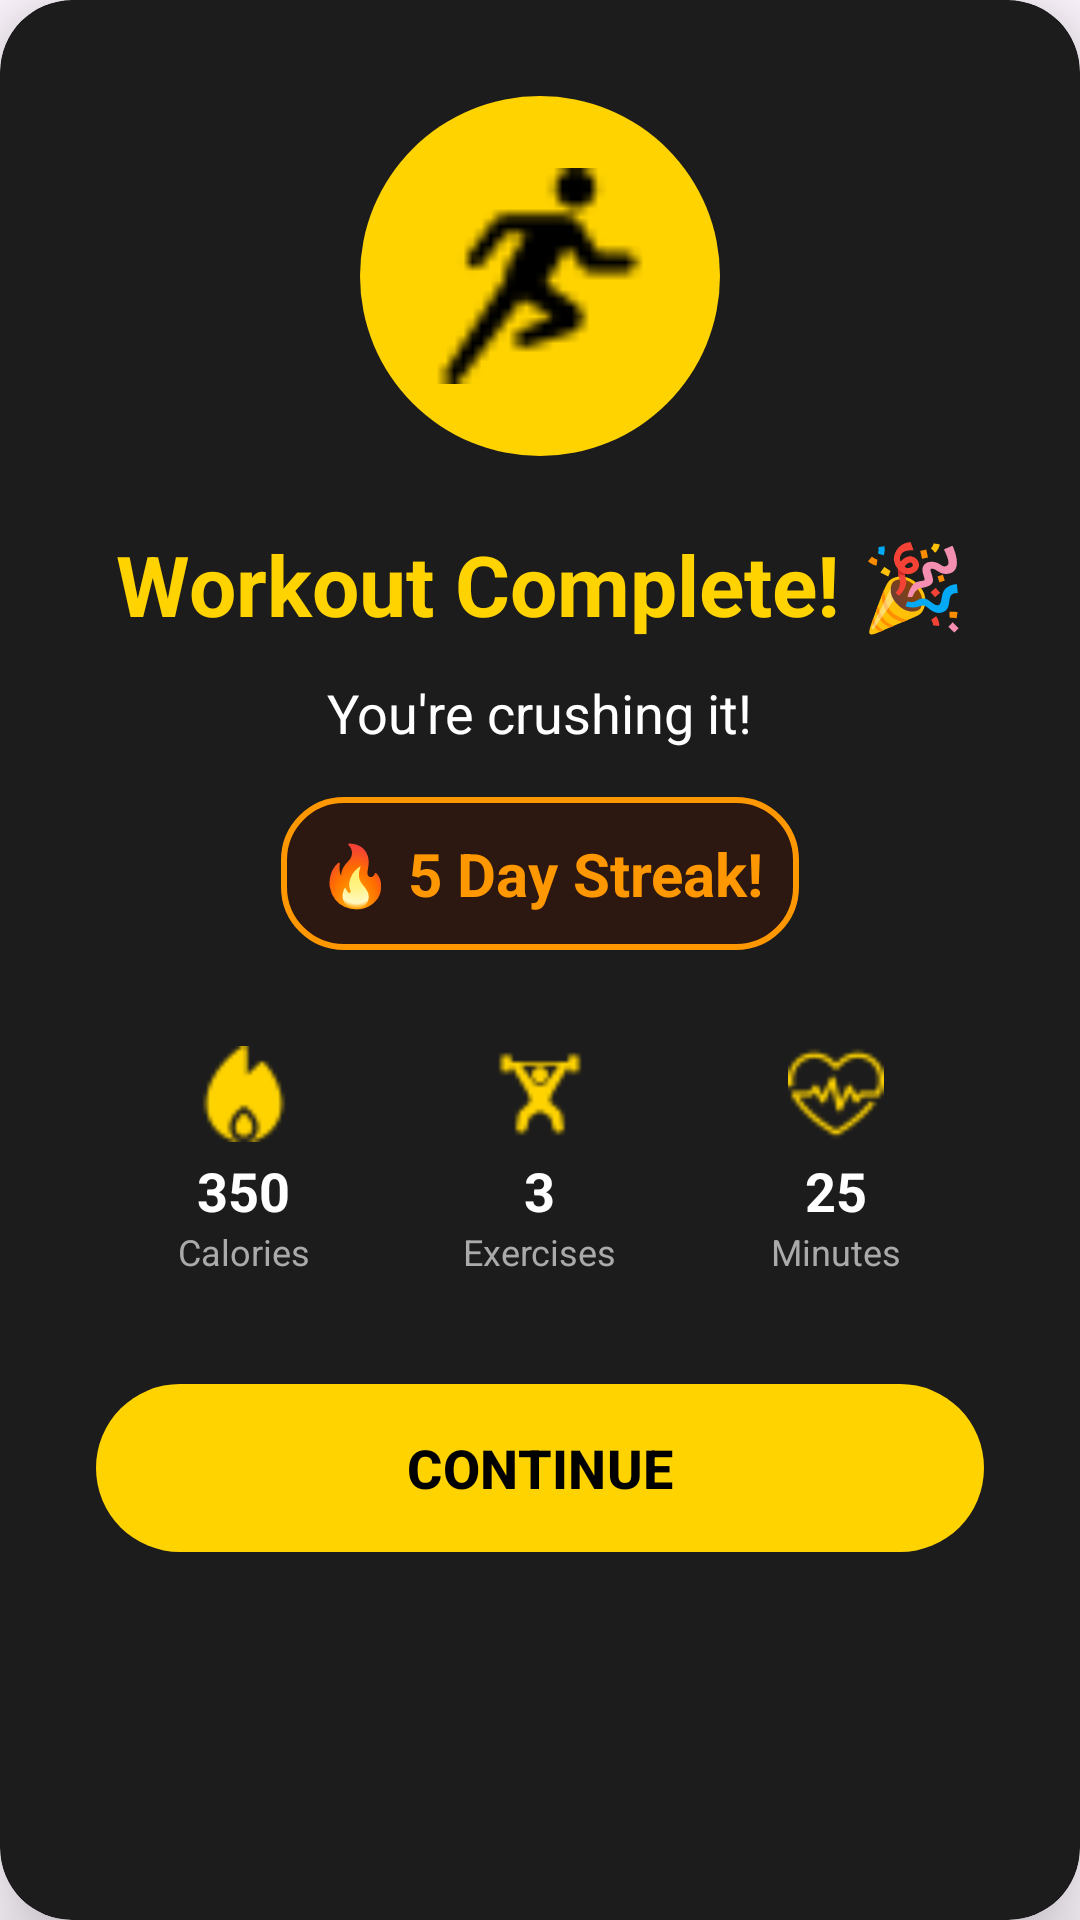

Locate icon controls on the screen. Image size 1080px×1920px, boxes as (x1, y1, x2, y2).
heartrate: (788, 1050, 884, 1136)
running: (360, 96, 720, 456)
workout: (499, 1053, 581, 1135)
